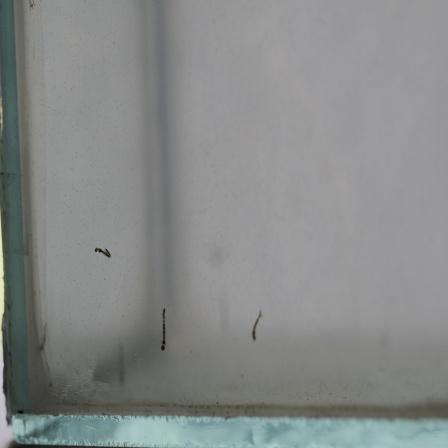Jentik-Nyamuk: (156, 303, 171, 353), (249, 306, 266, 345), (92, 242, 112, 262)
